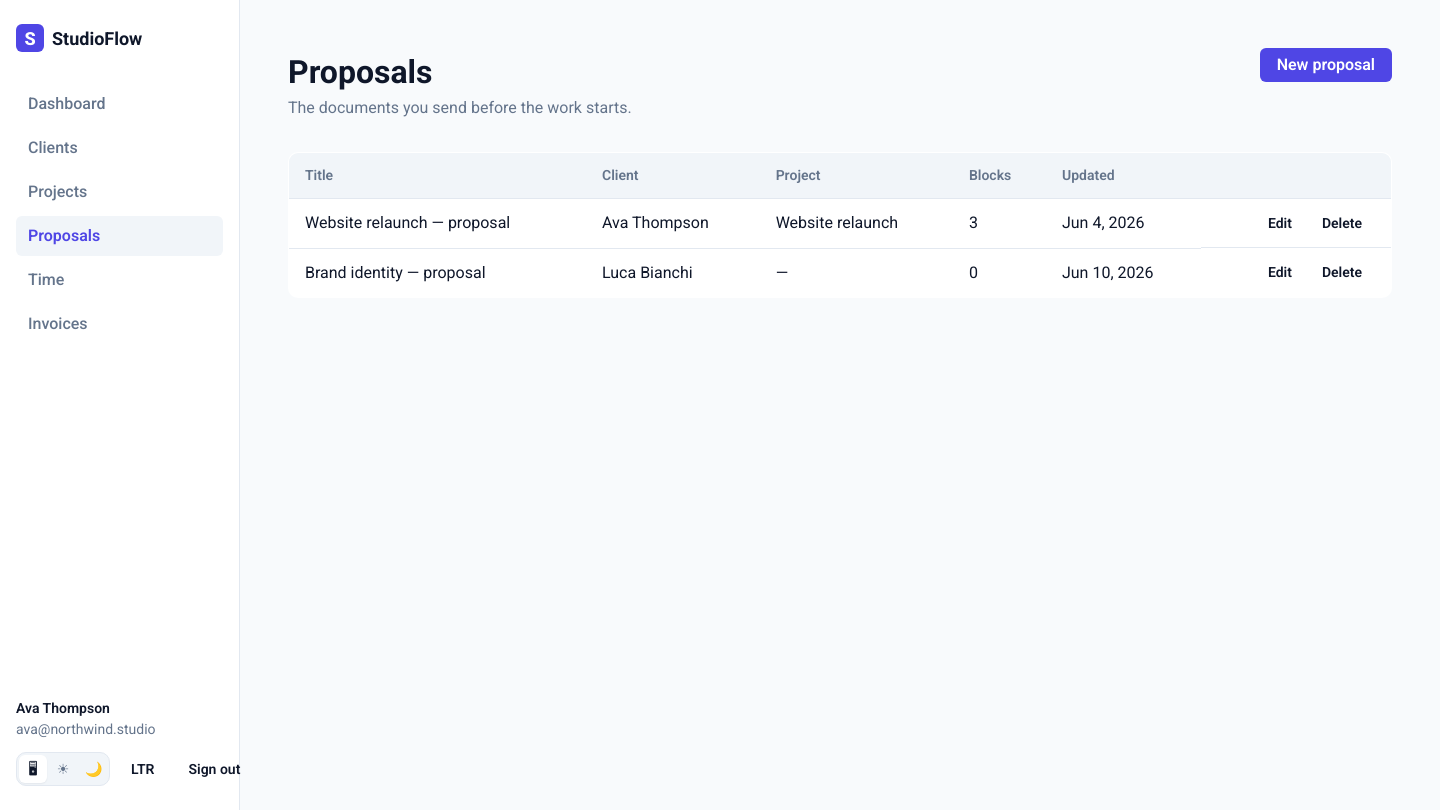
Test: ProposalsPage › creates a proposal and opens its editor
The image size is (1440, 810).
Check: the heading "Proposals" is shown, box x1=288 y1=53 x2=432 y2=91
Check: the link "Website relaunch — proposal" is shown, box x1=305 y1=213 x2=510 y2=232
Step 1. Click the button "New proposal" → [1326, 65], box x1=1260 y1=48 x2=1392 y2=82
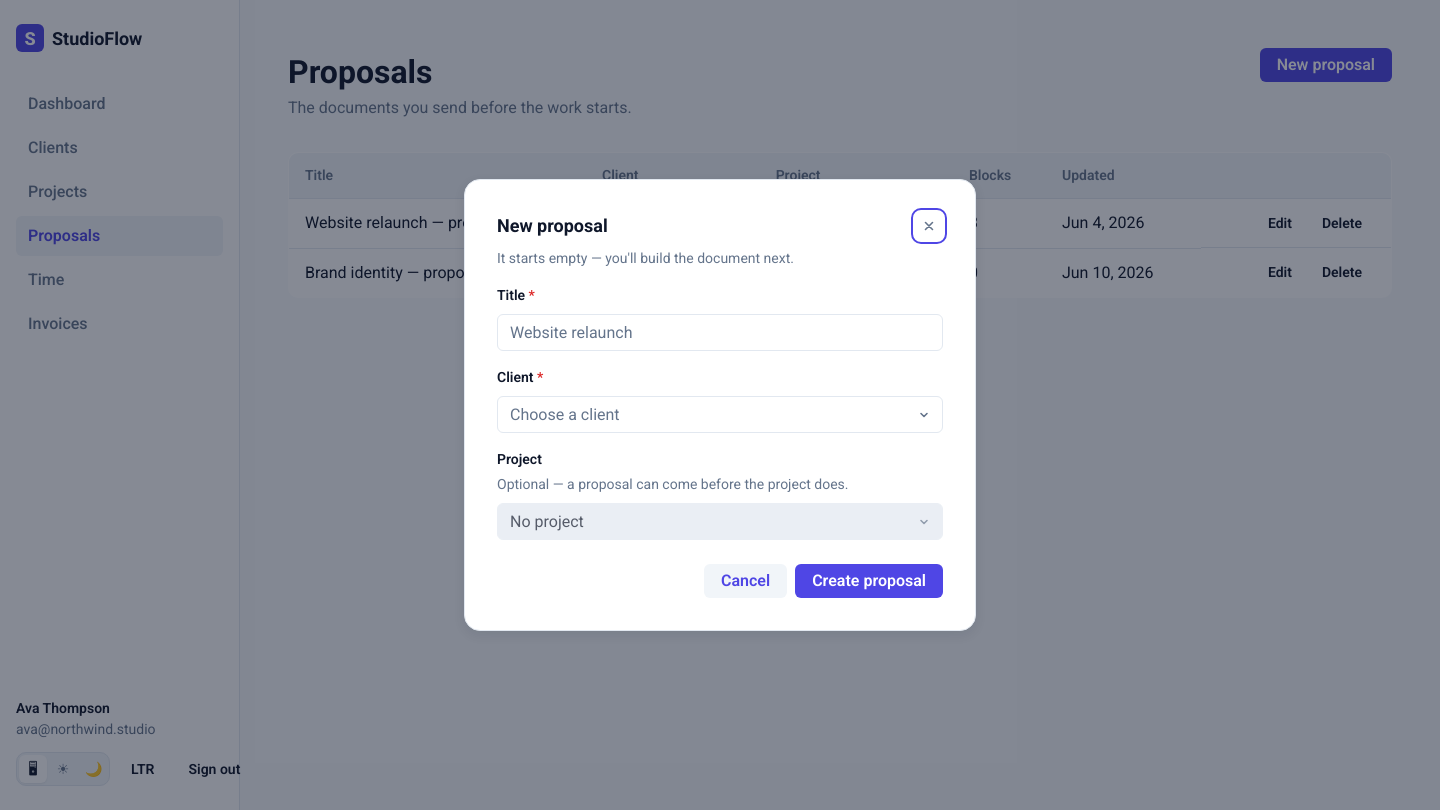
Step 2. Type "Retainer 2027" into the field labelled "Title" → [720, 332], box x1=497 y1=314 x2=943 y2=351
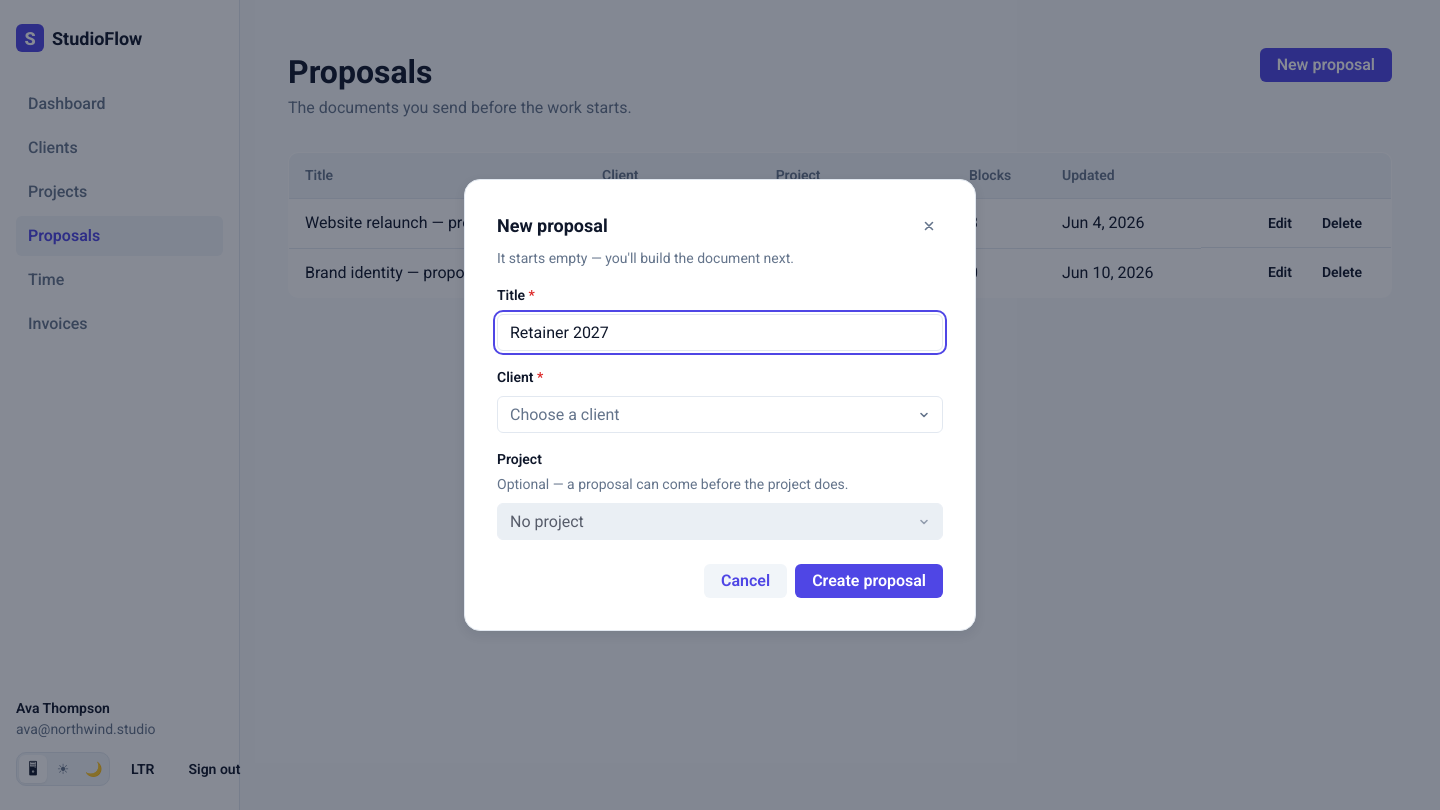
Step 3. Click the dropdown labelled "client" → [565, 414], box x1=497 y1=396 x2=943 y2=433
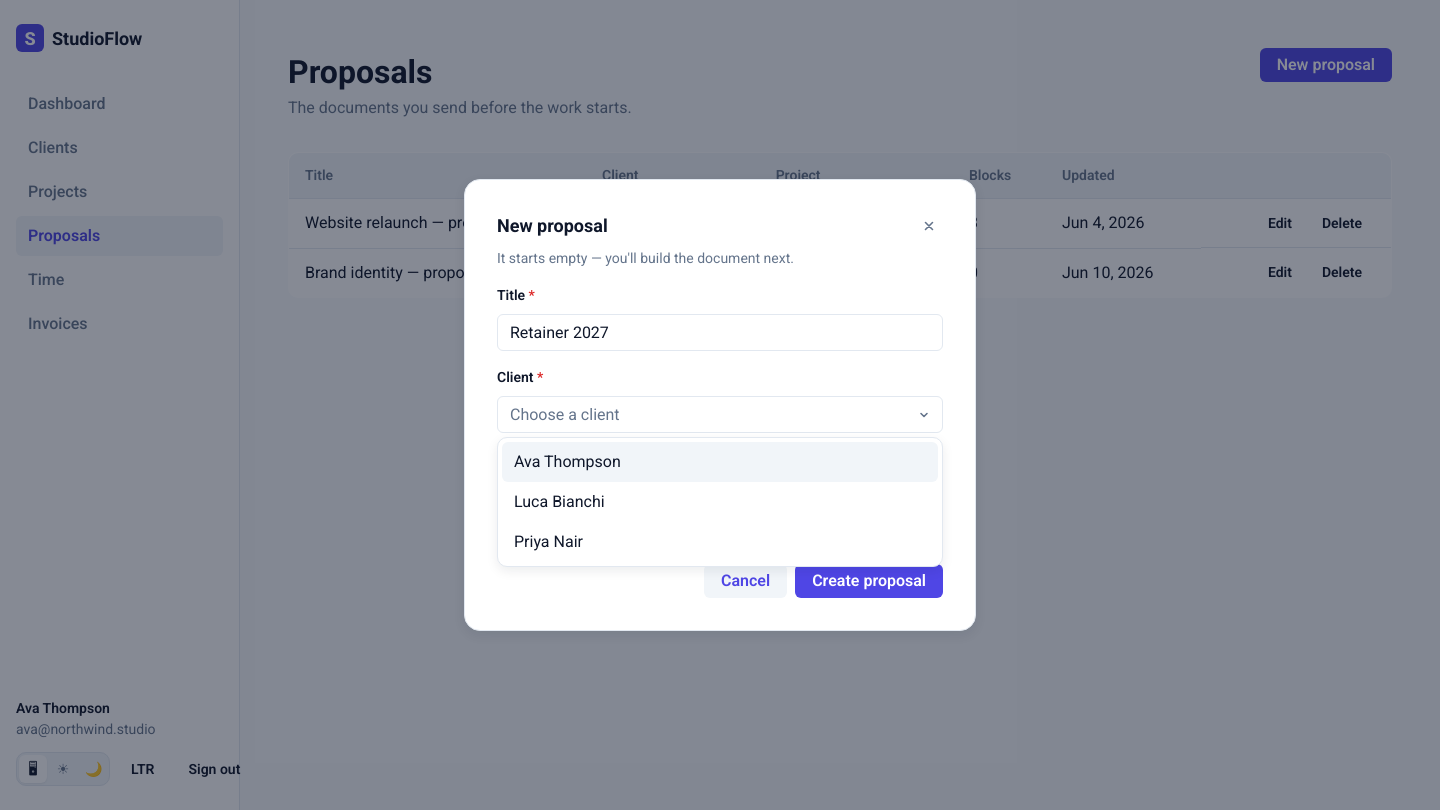
Step 4. Click the option "Priya Nair" → [548, 542], box x1=514 y1=532 x2=583 y2=551
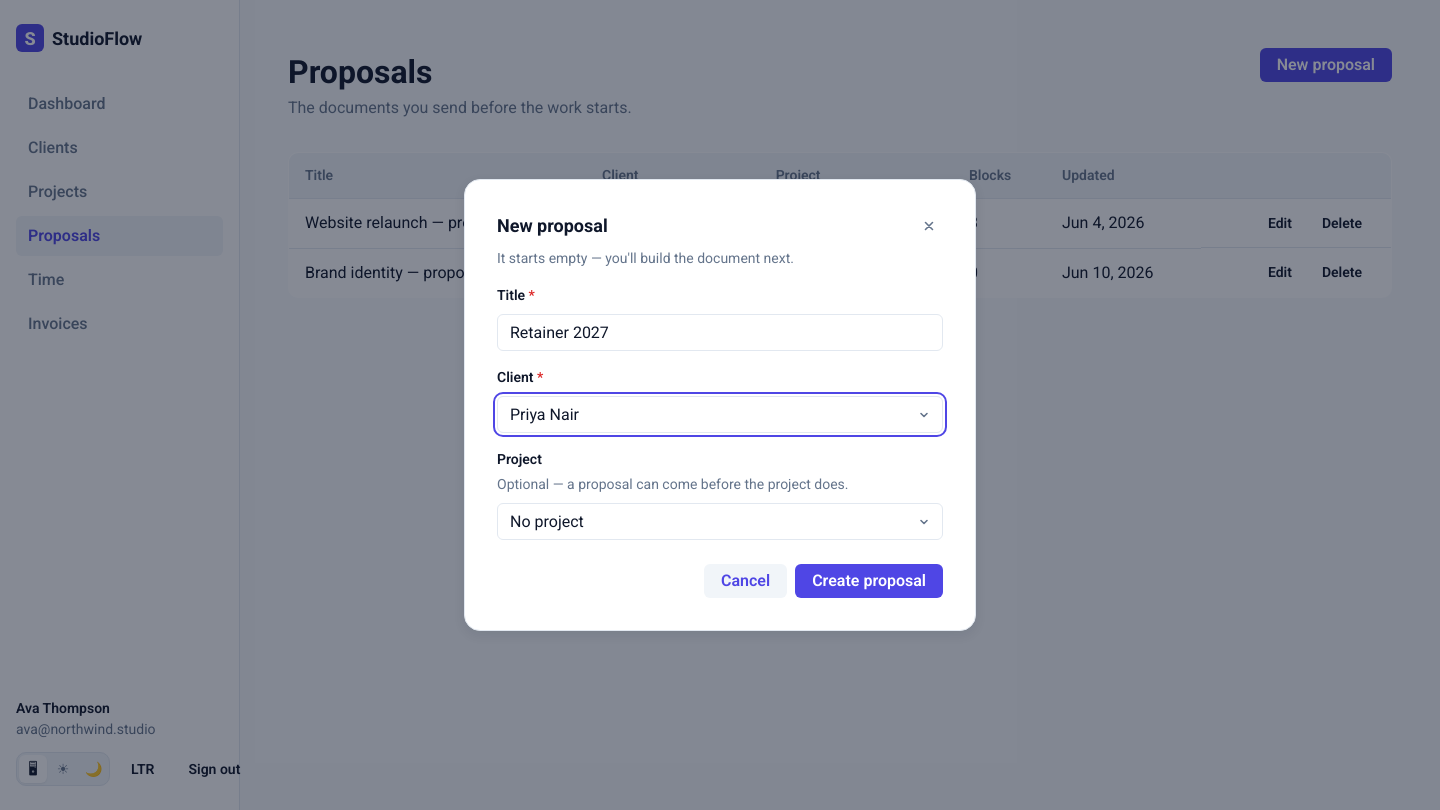
Step 5. Click the button "Create proposal" → [869, 581], box x1=795 y1=564 x2=943 y2=598
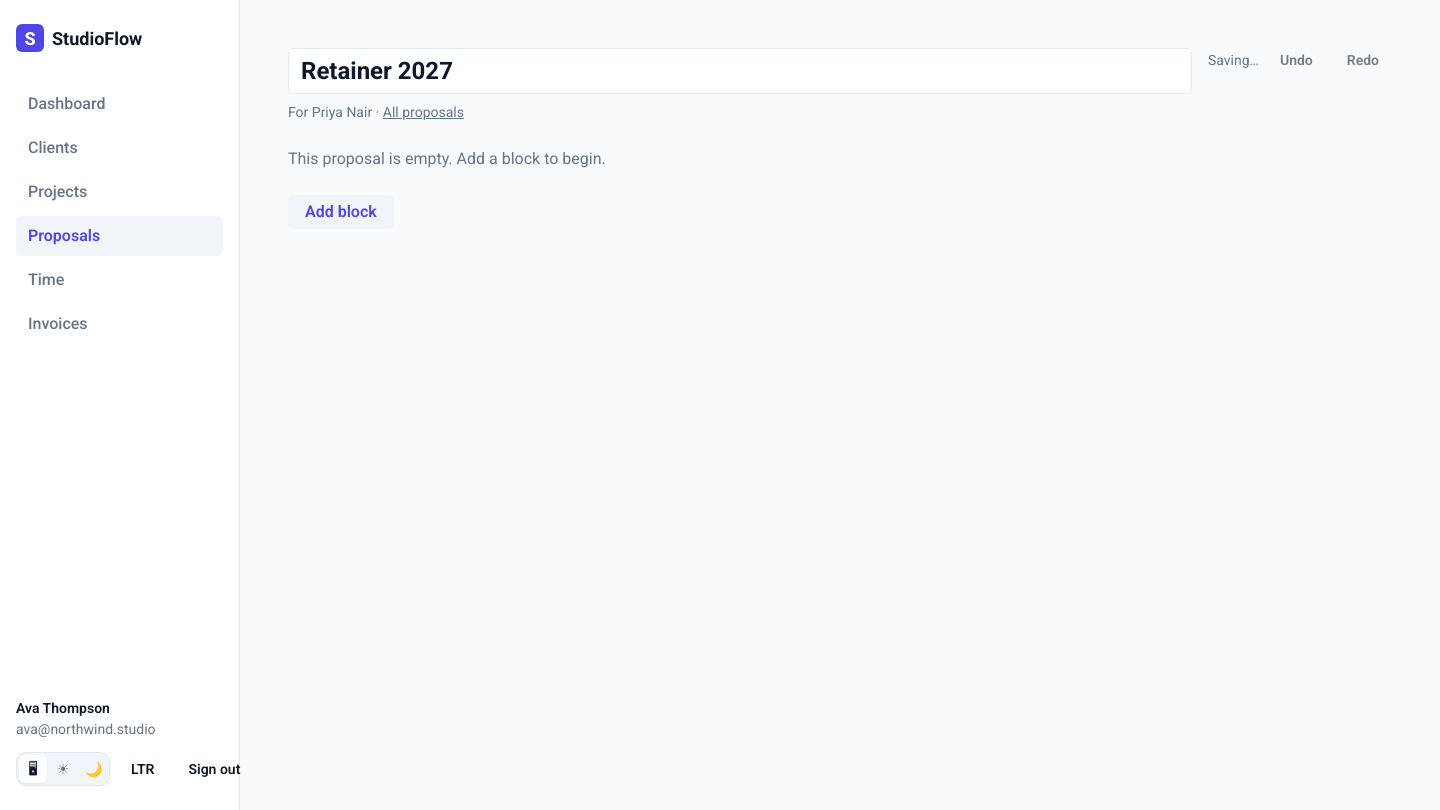
Check: the field named "Proposal title" holds "Retainer 2027", box x1=288 y1=48 x2=1192 y2=94
